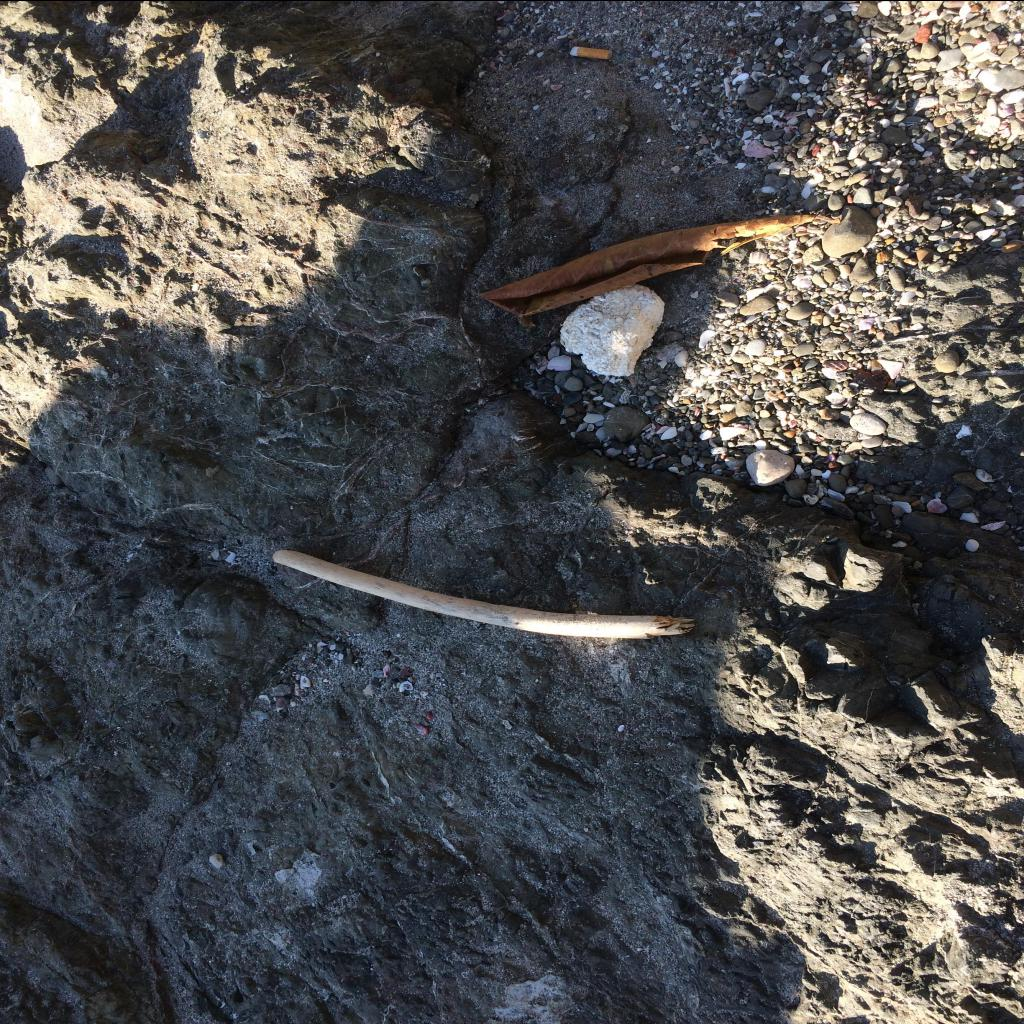Cigarette: (570, 44, 612, 58)
Styrofoam piece: (560, 282, 664, 376)
